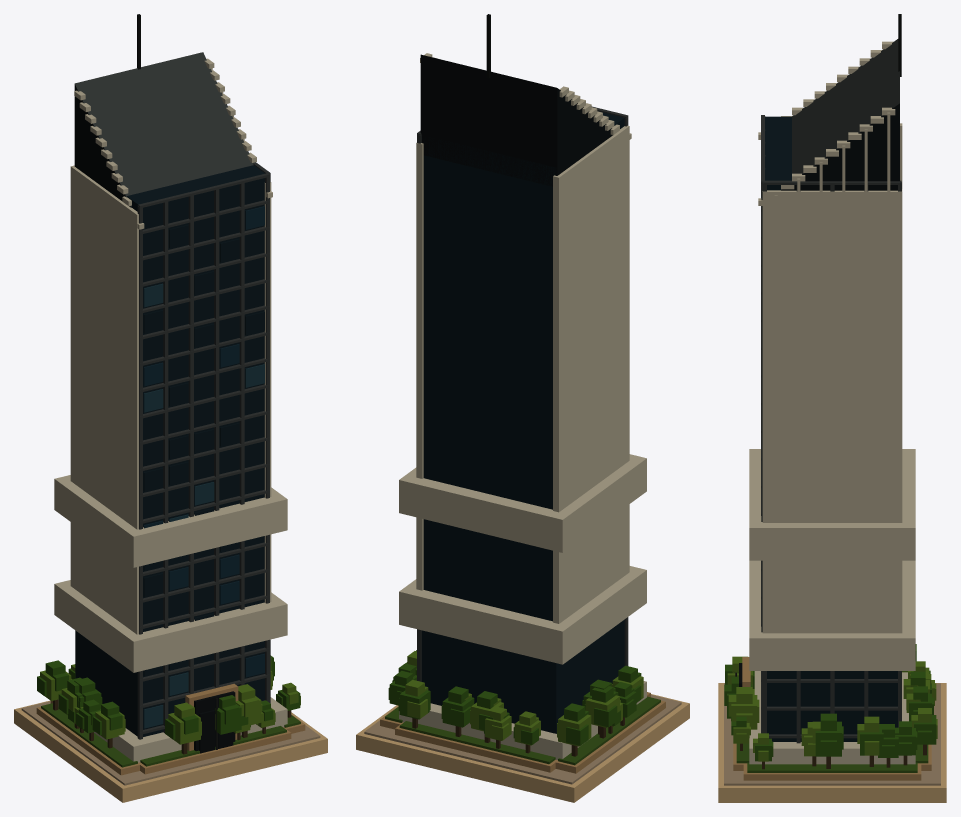
The model's file is SM_Mapa_011.fbx.
3 views of the same model, side by side, from view 1: azimuth 30°, elevation 25°; view 2: azimuth 150°, elevation 25°; view 3: azimuth 270°, elevation 25° (orthographic). The views are drawn at different scales.
Visible parts, largest first — view 1: SM_Mapa_011; view 2: SM_Mapa_011; view 3: SM_Mapa_011.
Part boxes in pixels (left/top/right/bottom): SM_Mapa_011: left=14, top=14, right=327, bottom=802; SM_Mapa_011: left=356, top=14, right=689, bottom=802; SM_Mapa_011: left=718, top=14, right=946, bottom=802.
Bounding box in the file's own units: 14 × 12.85 × 45.64.
